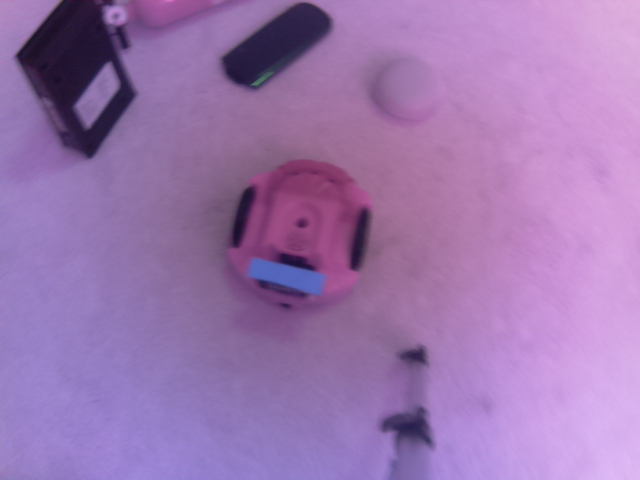board: (246, 253, 327, 301)
chassis: (223, 151, 375, 317)
